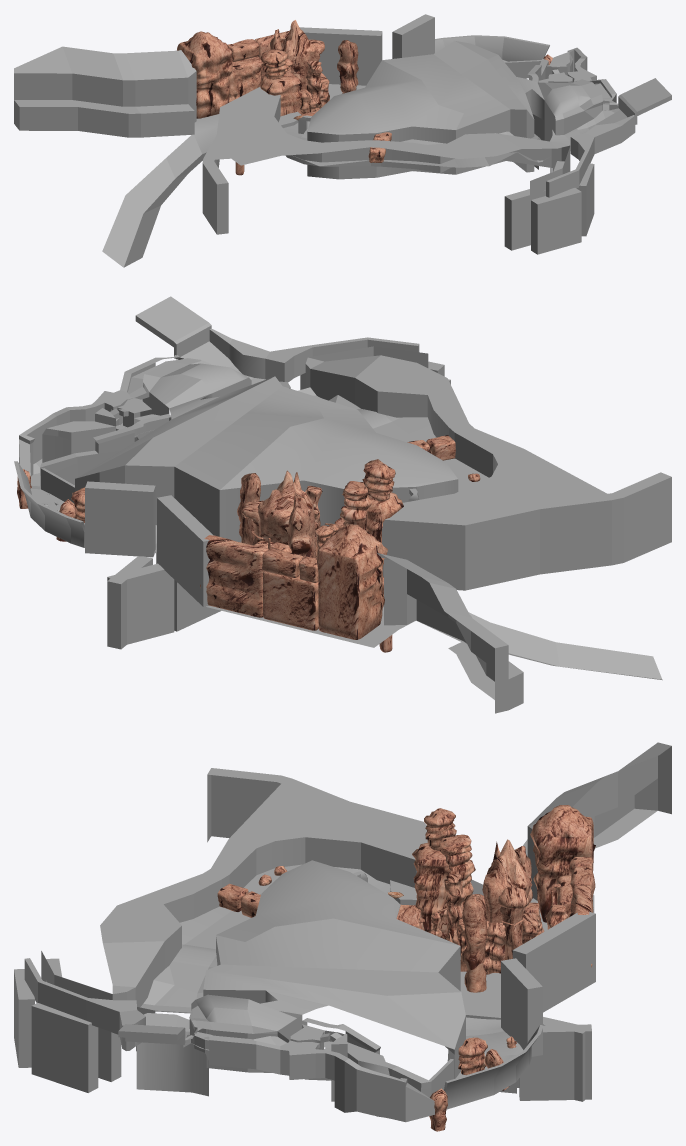
File: env_level02_canyonUpperLowerV4.fbx
3 renders of one model, top to bottom at view 1: azimuth 30°, elevation 25°; view 2: azimuth 150°, elevation 25°; view 3: azimuth 270°, elevation 25°, orthographic. The views are drawn at different scales.
Parts seen in each view (by area): view 1: pCube126, pCube46, pCube62, pCube118, rockwall_a00, pCube68, pCube25, pCube76, pCube102, pCube47, pCube67, pCube123 (+13 smaller); view 2: pCube62, pCube126, pCube46, rockwall_a00, pCube118, pCube47, pCube25, rockwall_a03, pCube76, pCube50, polySurface2, rockwall_a04 (+15 smaller); view 3: pCube126, pCube62, pCube46, pCube123, pCube25, pCube66, rockwall_a00, pCube125, pCube51, pCube76, pCube47, pCube102 (+21 smaller).
Boxes of the visible parts, bbox=[...] form: pCube126: bbox=[307, 40, 618, 179]; pCube46: bbox=[14, 46, 196, 137]; pCube62: bbox=[202, 87, 570, 234]; pCube118: bbox=[102, 84, 365, 267]; rockwall_a00: bbox=[177, 31, 232, 118]; pCube68: bbox=[531, 188, 581, 254]; pCube25: bbox=[299, 27, 382, 85]; pCube76: bbox=[546, 115, 635, 197]; pCube102: bbox=[435, 35, 549, 61]; pCube47: bbox=[392, 14, 434, 58]; pCube67: bbox=[504, 189, 545, 250]; pCube123: bbox=[283, 121, 551, 172]; pCube62: bbox=[305, 346, 671, 590]; pCube126: bbox=[19, 355, 458, 542]; pCube46: bbox=[377, 553, 523, 713]; rockwall_a00: bbox=[317, 524, 387, 639]; pCube118: bbox=[206, 605, 662, 680]; pCube47: bbox=[85, 481, 155, 557]; pCube25: bbox=[157, 495, 213, 606]; rockwall_a03: bbox=[200, 535, 268, 617]; pCube76: bbox=[209, 328, 419, 382]; pCube50: bbox=[107, 563, 174, 644]; polySurface2: bbox=[40, 398, 171, 488]; rockwall_a04: bbox=[263, 571, 318, 630]; pCube126: bbox=[183, 860, 465, 1122]; pCube62: bbox=[41, 768, 427, 1007]; pCube46: bbox=[523, 742, 671, 900]; pCube123: bbox=[136, 864, 400, 1051]; pCube25: bbox=[512, 911, 595, 1012]; pCube66: bbox=[31, 1002, 98, 1092]; rockwall_a00: bbox=[530, 805, 595, 922]; pCube125: bbox=[136, 1013, 208, 1096]; pCube51: bbox=[519, 1024, 591, 1100]; pCube76: bbox=[24, 958, 145, 1050]; pCube47: bbox=[501, 958, 542, 1056]; pCube102: bbox=[444, 1025, 543, 1109].
Bounding box in the file's own units: 59509 × 17406 × 51411.
